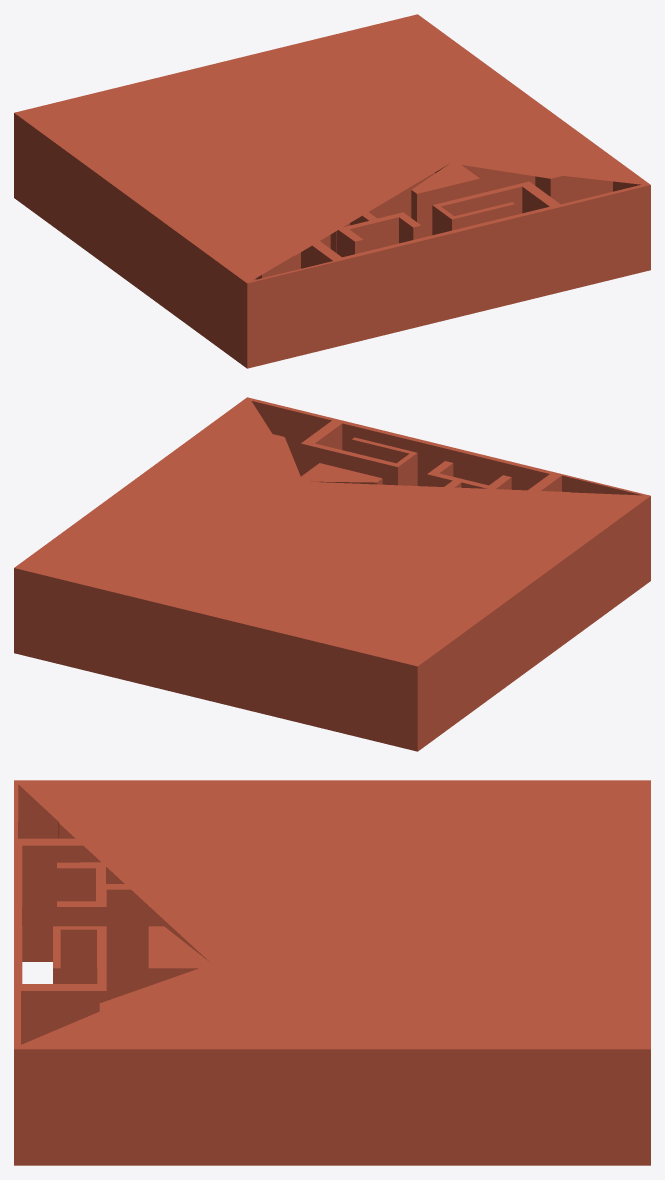
File: MAZE 1.fbx
The picture shows the model from 3 angles, top to bottom: view 1: azimuth 30°, elevation 25°; view 2: azimuth 150°, elevation 25°; view 3: azimuth 270°, elevation 25°; orthographic projection. The views are drawn at different scales.
Parts seen in each view (by area): view 1: Cube; view 2: Cube; view 3: Cube.
Boxes of the visible parts, bbox=[...] form: Cube: bbox=[14, 14, 650, 368]; Cube: bbox=[14, 397, 650, 751]; Cube: bbox=[14, 780, 650, 1165].
Bounding box in the file's own units: 5004 × 1097 × 5006.
